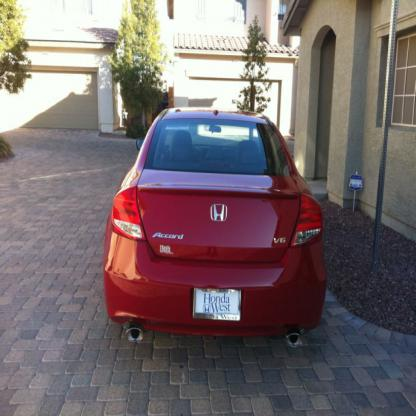Vehicle: (104, 110, 327, 350)
